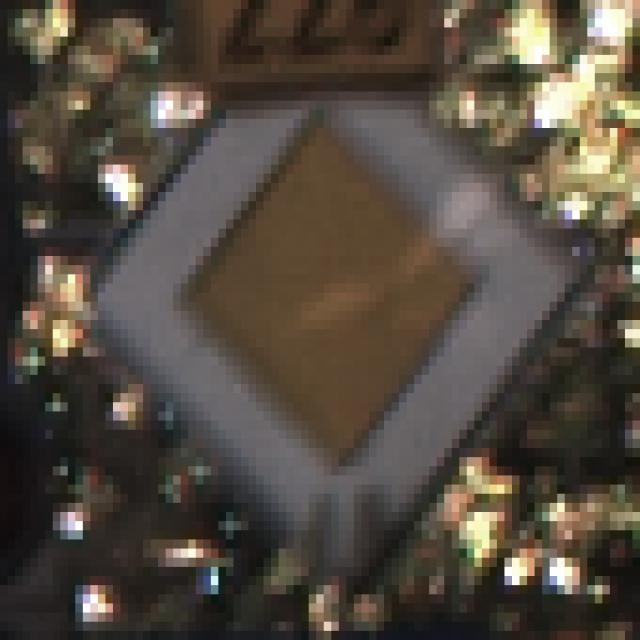Main Road: (62, 65, 589, 586)
